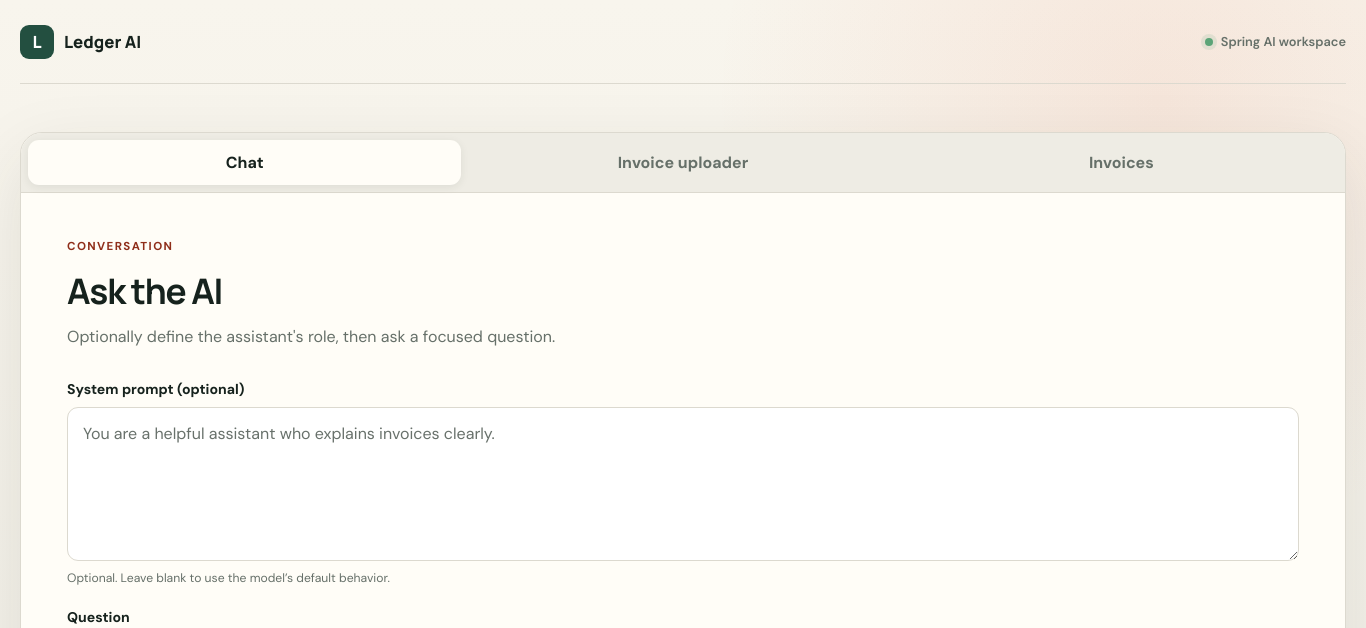
Scenario: App › switches between chat, uploader, and invoices tabs
The width and height of the screenshot is (1366, 628).
Expected: the heading "Ask the AI" is shown, x1=67 y1=266 x2=222 y2=315
Click the tab "Invoice uploader" at (683, 162), box x1=466 y1=140 x2=900 y2=185
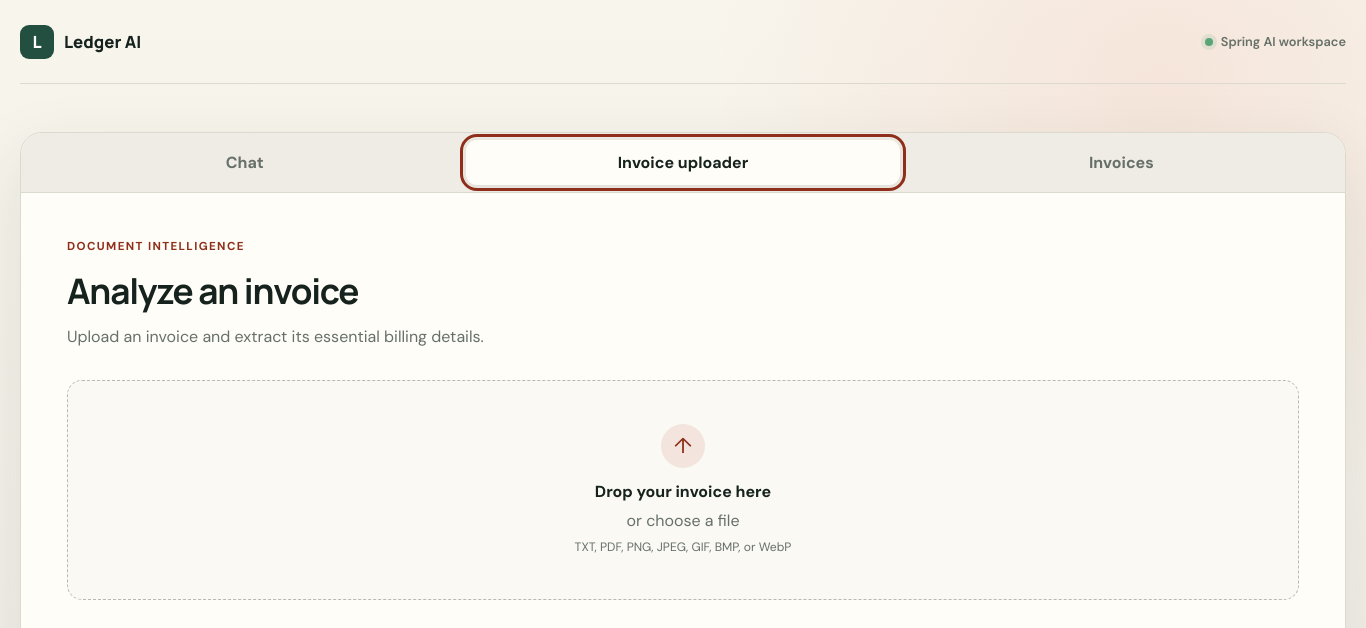
Result: the heading "Analyze an invoice" is shown at x1=67 y1=266 x2=358 y2=315
Click the tab "Invoices" at (1121, 162), box x1=905 y1=140 x2=1338 y2=185
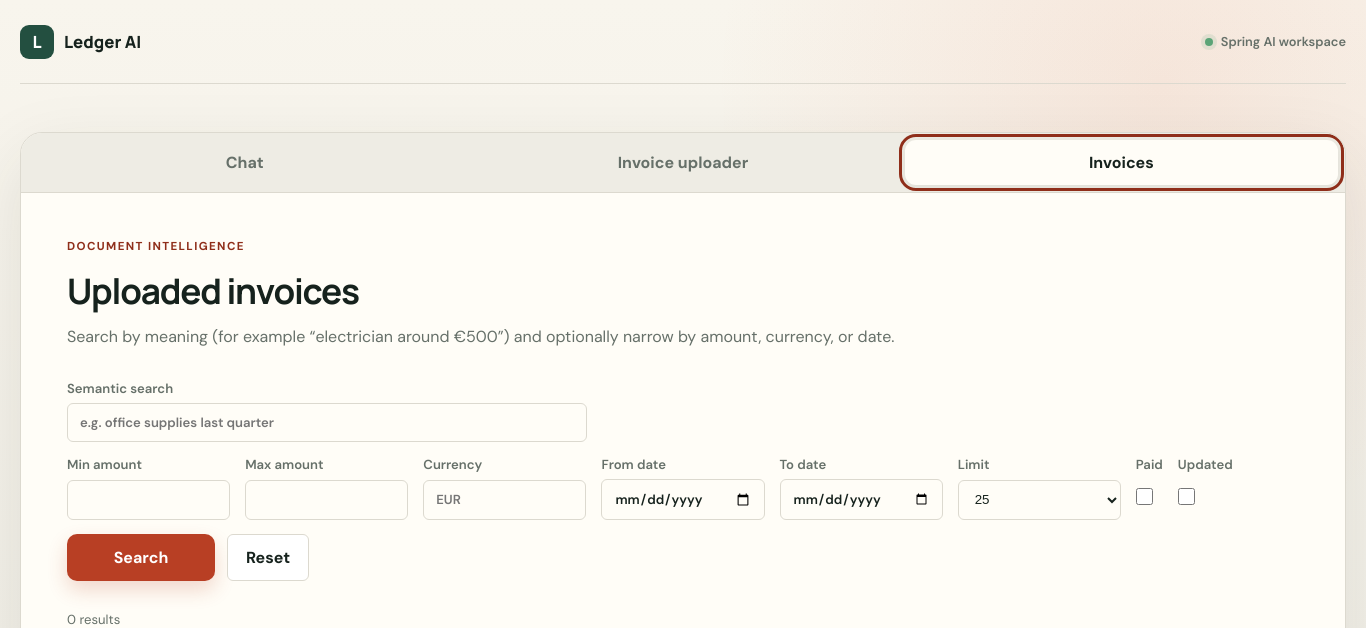
Result: the heading "Uploaded invoices" is shown at x1=67 y1=266 x2=359 y2=315
